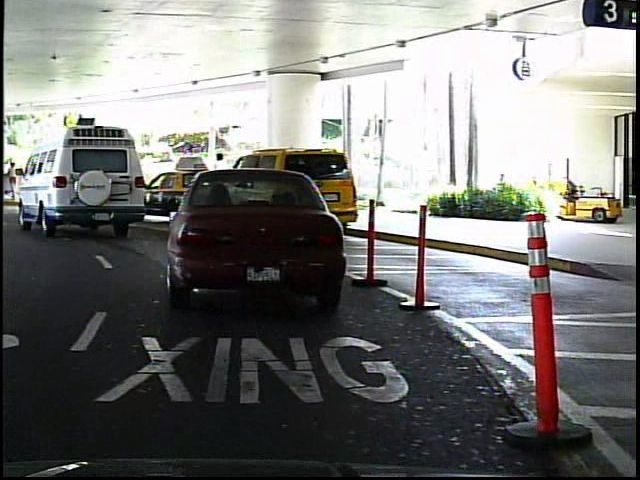person: (208, 149, 235, 214), (44, 157, 63, 200), (5, 158, 22, 199)
